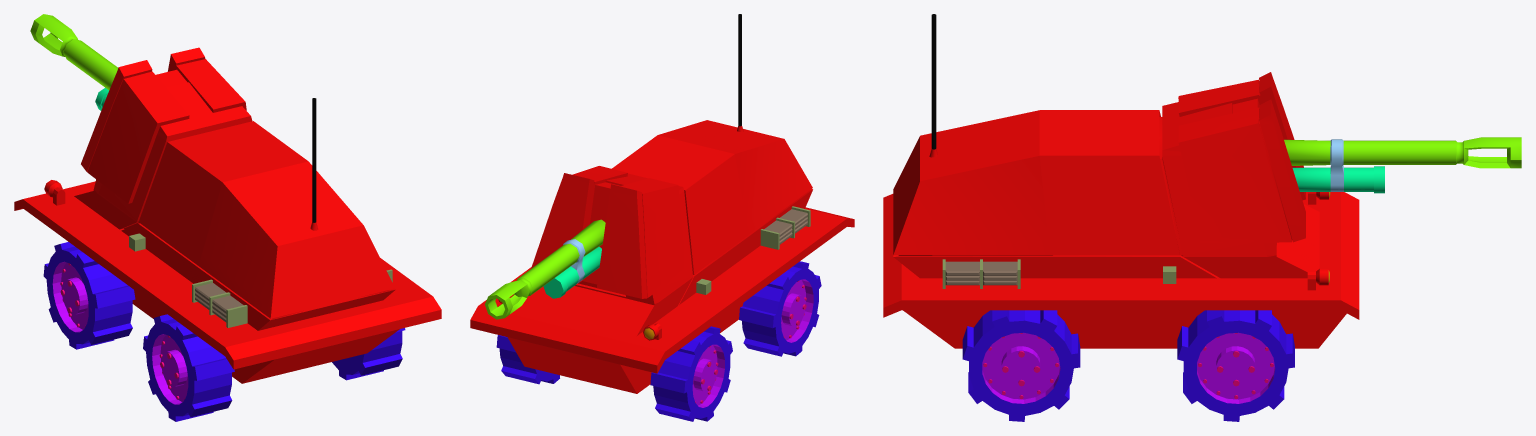
Rendered from Tank_GW38H.FBX.
3 views of the same model, side by side, from view 1: azimuth 30°, elevation 25°; view 2: azimuth 150°, elevation 25°; view 3: azimuth 270°, elevation 25° (orthographic). The views are drawn at different scales.
Visible parts, largest first — view 1: G.W. 38H_Body, G.W.38H_Wheel_f_left, G.W.38H_Wheel_b_left, G.W.38H_Canon, G.W.38H_Wheel_b_right; view 2: G.W. 38H_Body, G.W.38H_Wheel_b_left, G.W.38H_Wheel_f_left, G.W.38H_Canon, G.W.38H_Wheel_f_right; view 3: G.W. 38H_Body, G.W.38H_Wheel_b_right, G.W.38H_Wheel_f_right, G.W.38H_Canon.
Part boxes in pixels (x1,y1,x2,y2): G.W. 38H_Body: (14,47,441,383); G.W.38H_Wheel_f_left: (43,242,135,349); G.W.38H_Wheel_b_left: (143,314,234,421); G.W.38H_Canon: (30,14,118,110); G.W.38H_Wheel_b_right: (332,328,405,380); G.W. 38H_Body: (470,14,854,393); G.W.38H_Wheel_b_left: (739,261,821,356); G.W.38H_Wheel_f_left: (650,326,732,421); G.W.38H_Canon: (485,219,605,319); G.W.38H_Wheel_f_right: (496,335,559,384); G.W. 38H_Body: (883,14,1359,348); G.W.38H_Wheel_b_right: (962,310,1080,421); G.W.38H_Wheel_f_right: (1177,310,1294,421); G.W.38H_Canon: (1284,137,1521,193).
Bounding box in the file's own units: 2.01 × 2.94 × 4.84.
